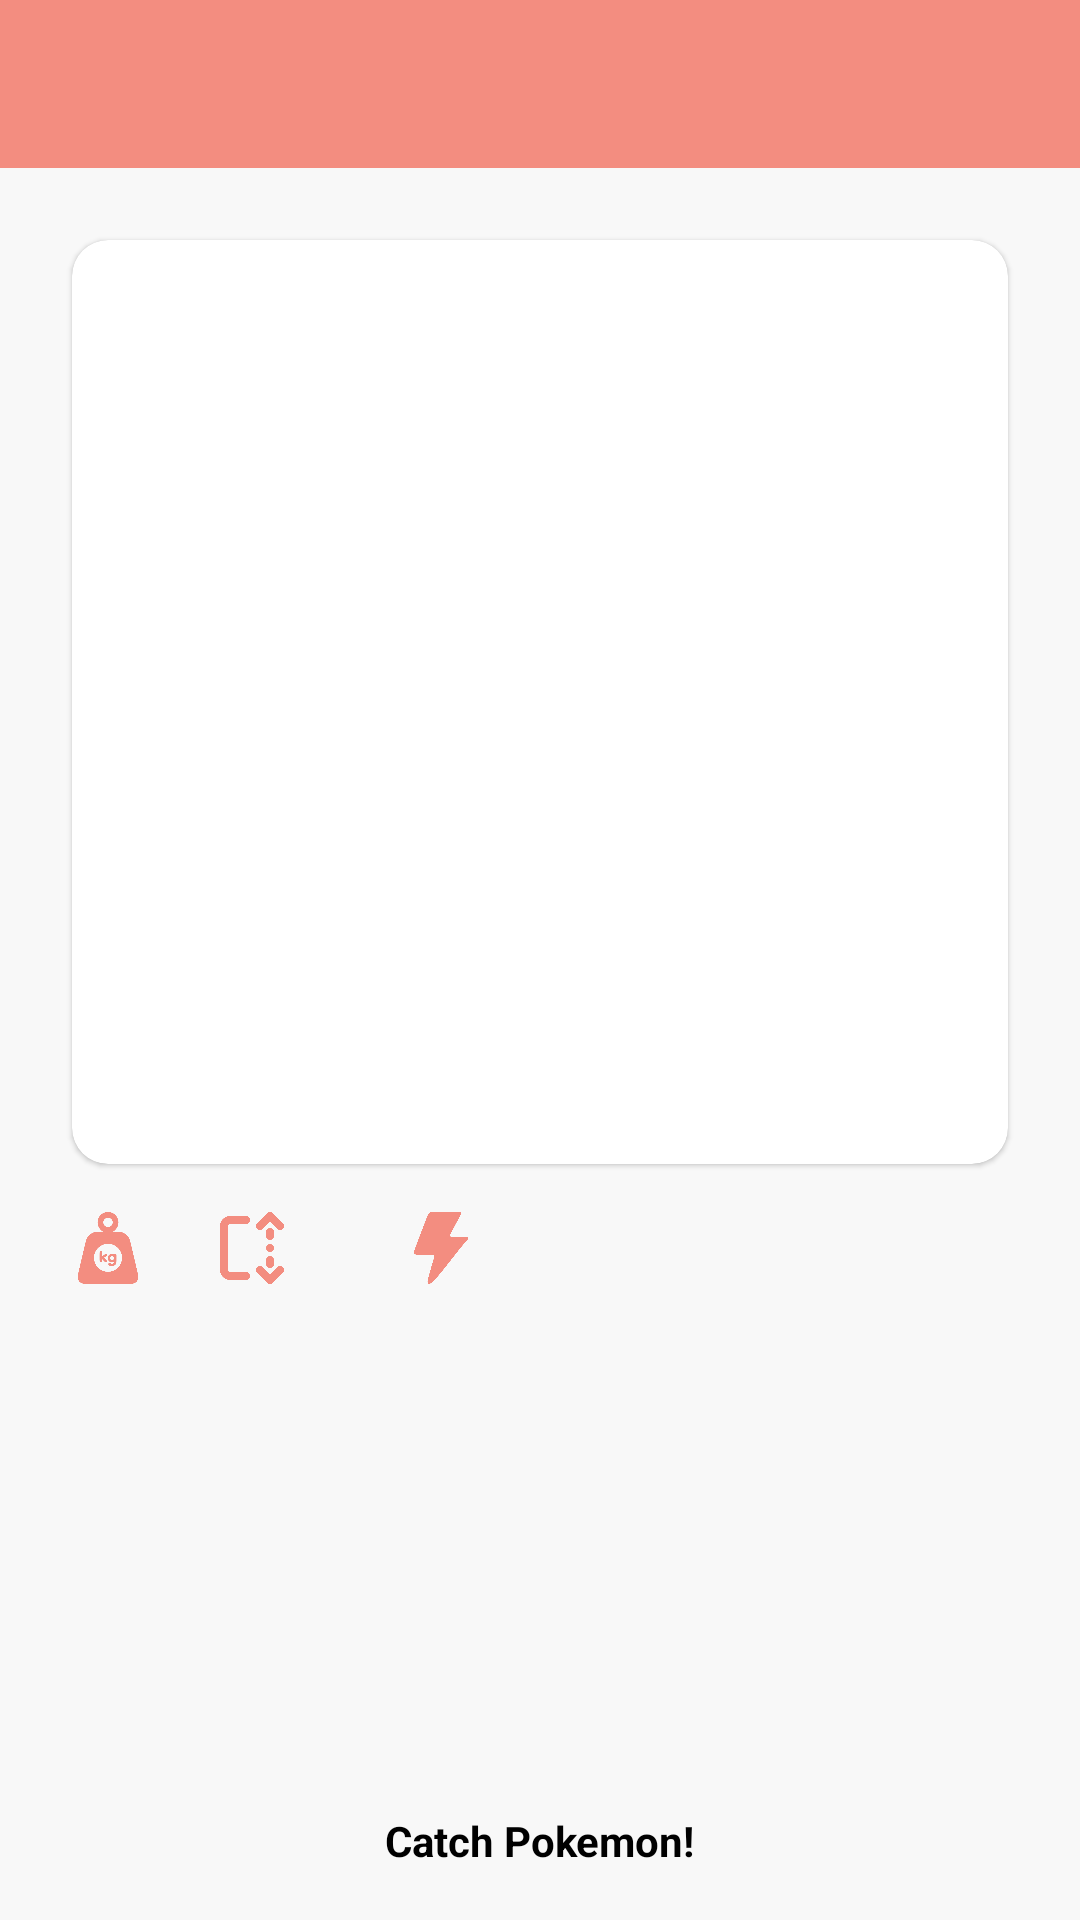

Icon click points for this 1080x1920 phone screenshot, format point (x, y):
height: point (252, 1248)
power: point (441, 1248)
weight: point (108, 1248)
